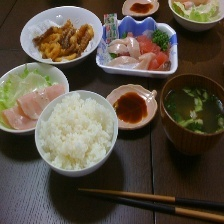rice: (35, 90, 116, 171)
